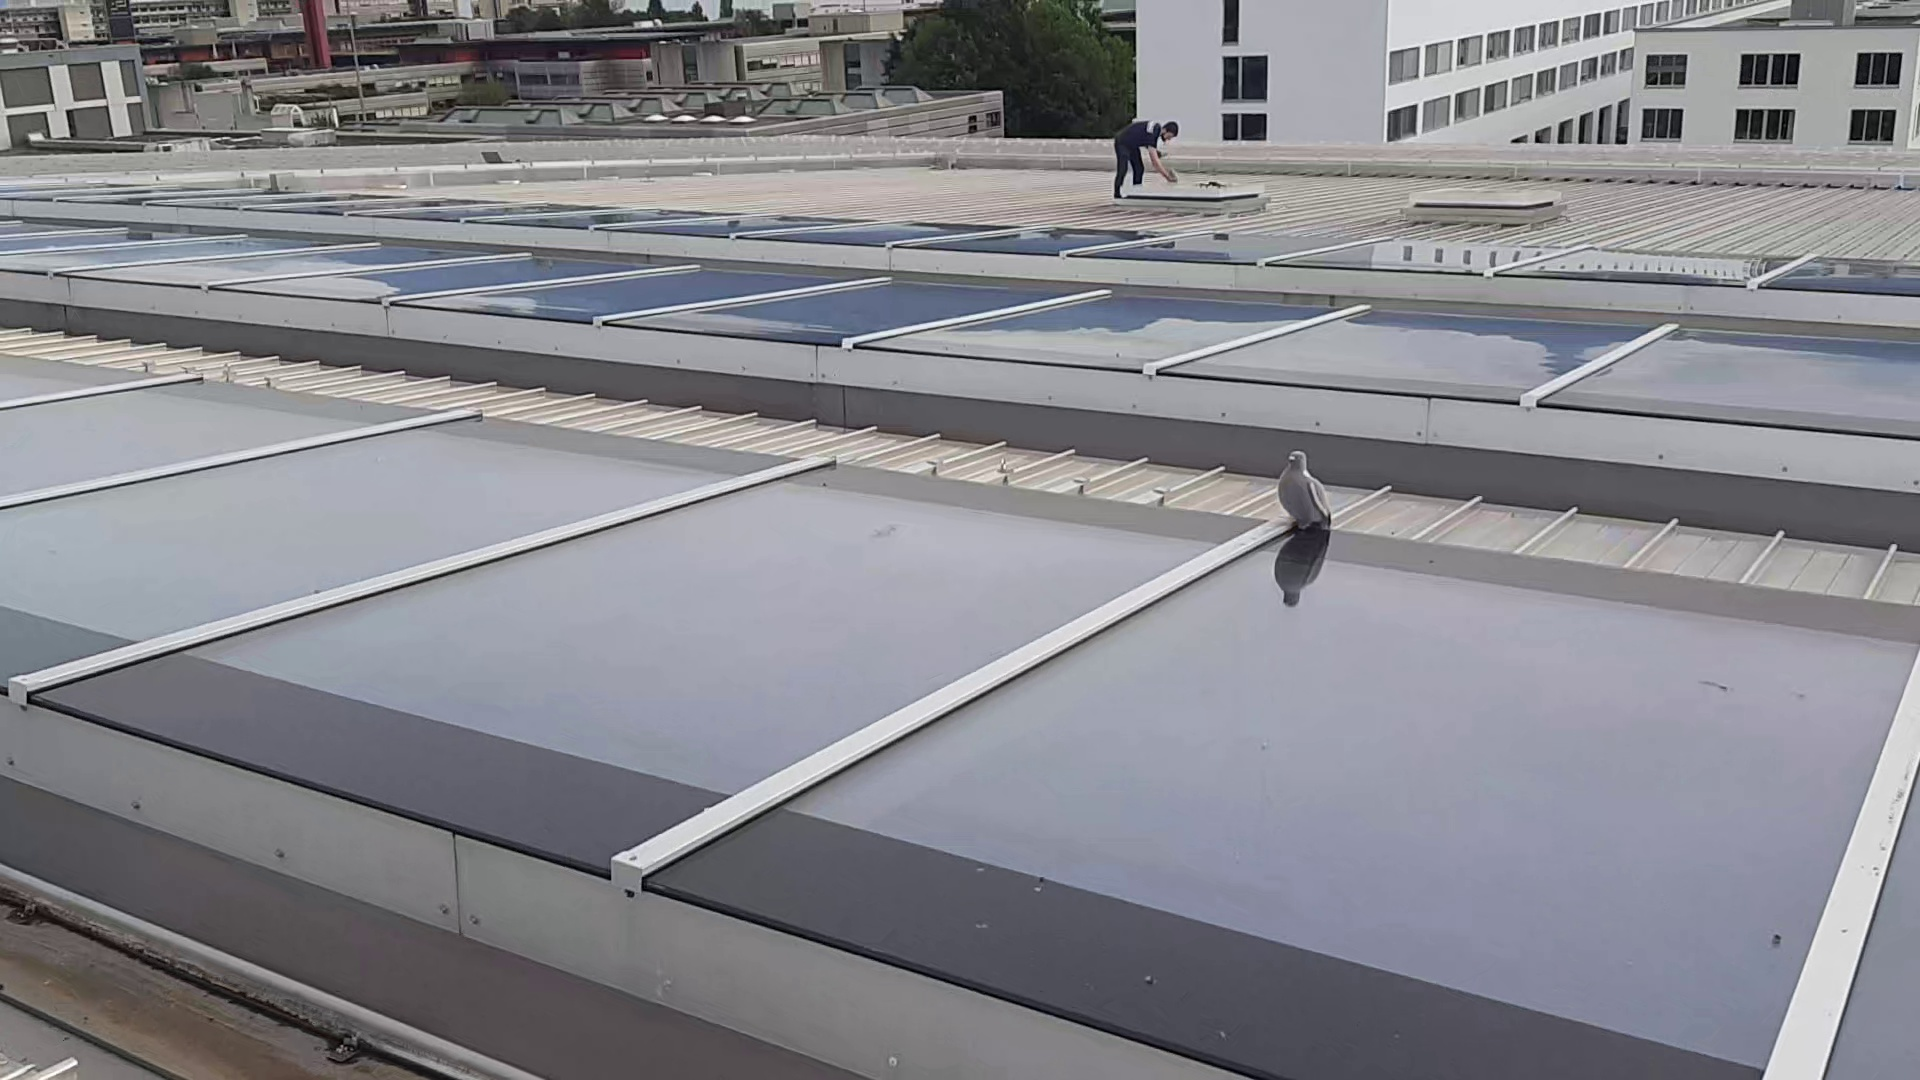Pigeon: (1267, 446, 1337, 531)
